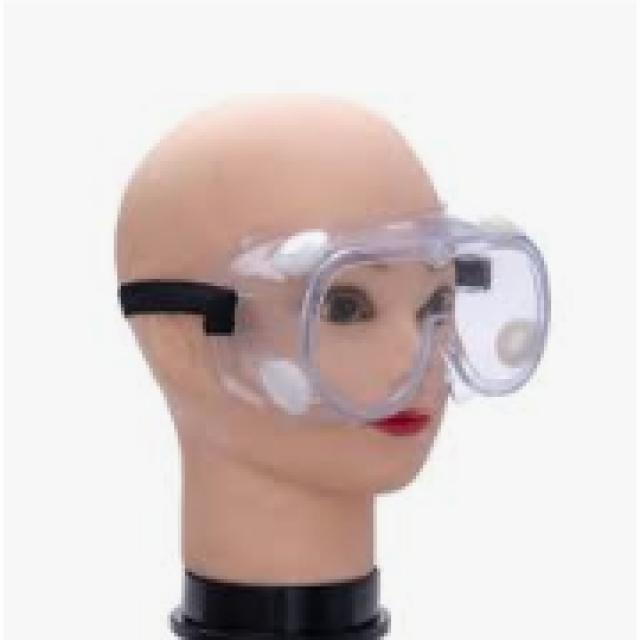glasses: (201, 206, 557, 402)
